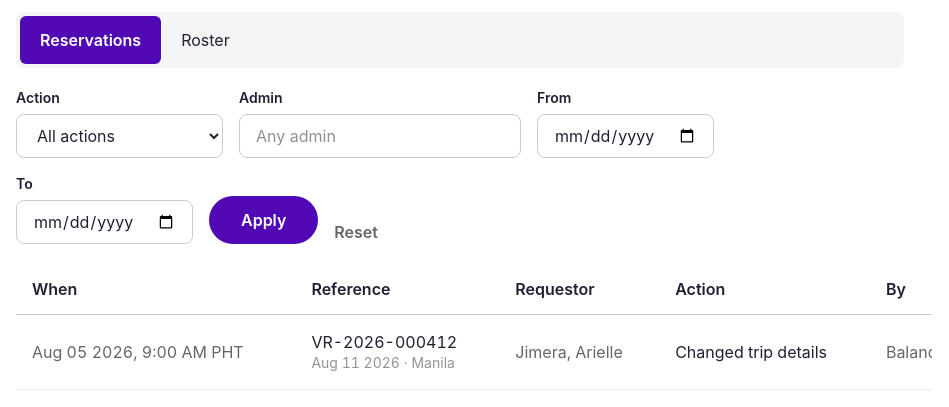
AuditView › replaces rather than appends when a filter changes
The image size is (949, 407).
Select "Approved" in the dropdown labelled "Action" at (120, 136), box [16, 114, 223, 158]
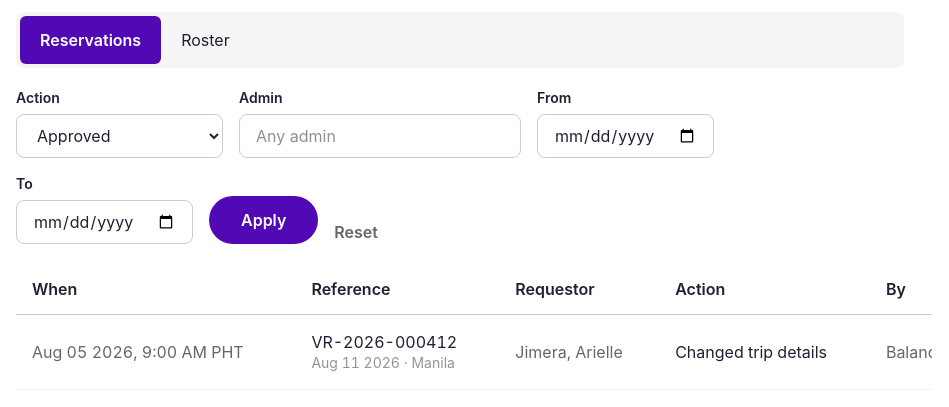
Click the button "Apply" at (264, 220), box [209, 196, 318, 244]
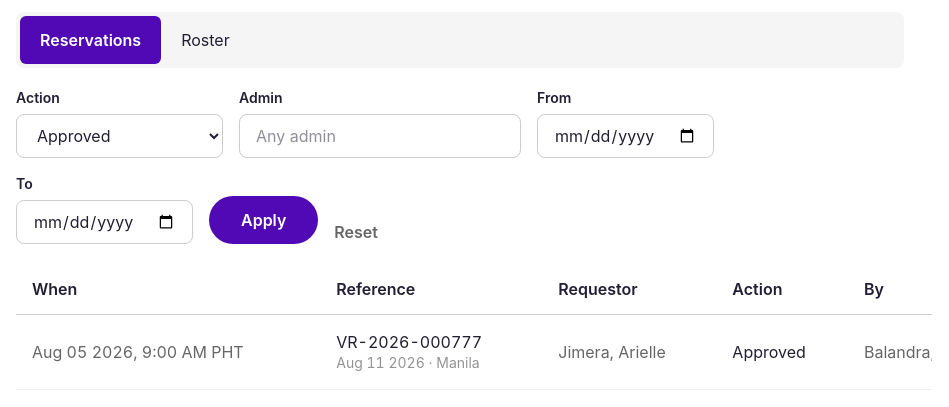
Result: the text "VR-2026-000777" is shown at [336, 332, 482, 352]
Result: the text "VR-2026-000412" is gone
